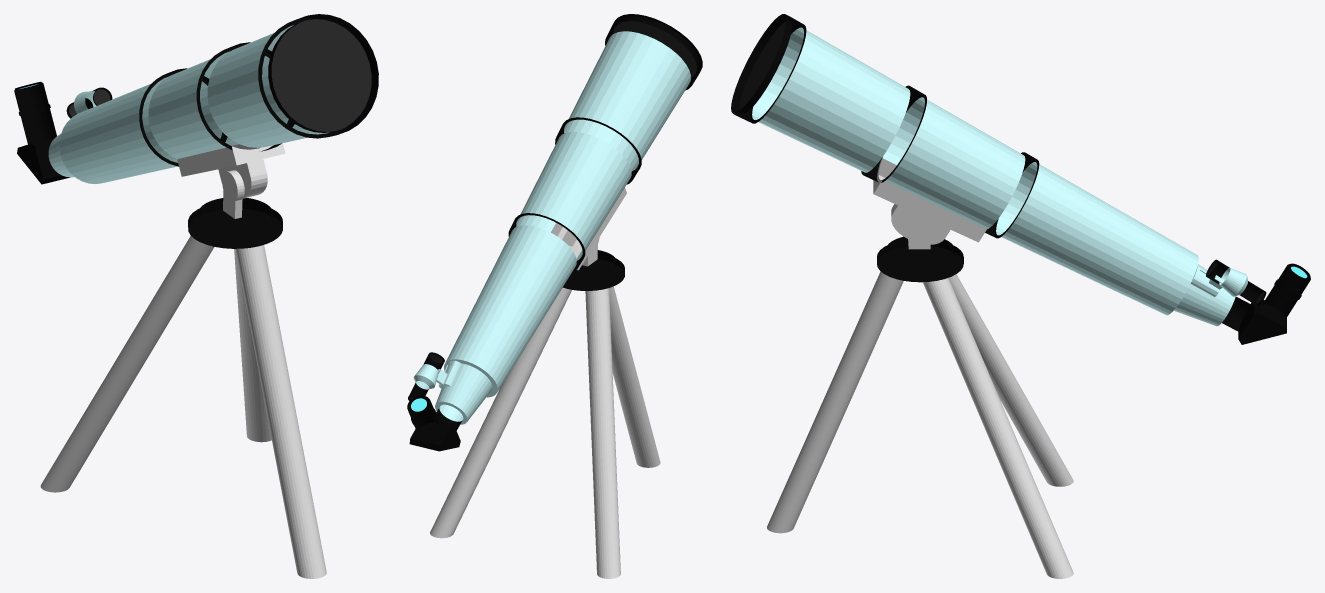
File: telescope3.7dea3e8a.glb
3 views of the same model, side by side, from view 1: azimuth 30°, elevation 25°; view 2: azimuth 150°, elevation 25°; view 3: azimuth 270°, elevation 25° (orthographic). The views are drawn at different scales.
Parts seen in each view (by area): view 1: 望遠鏡; view 2: 望遠鏡; view 3: 望遠鏡.
Part boxes in pixels (x1,y1,x2,y2): 望遠鏡: (14,14,378,578); 望遠鏡: (407,14,702,578); 望遠鏡: (731,14,1310,578).
Size of the model in its own units: 1.91 by 4.38 by 4.53.
